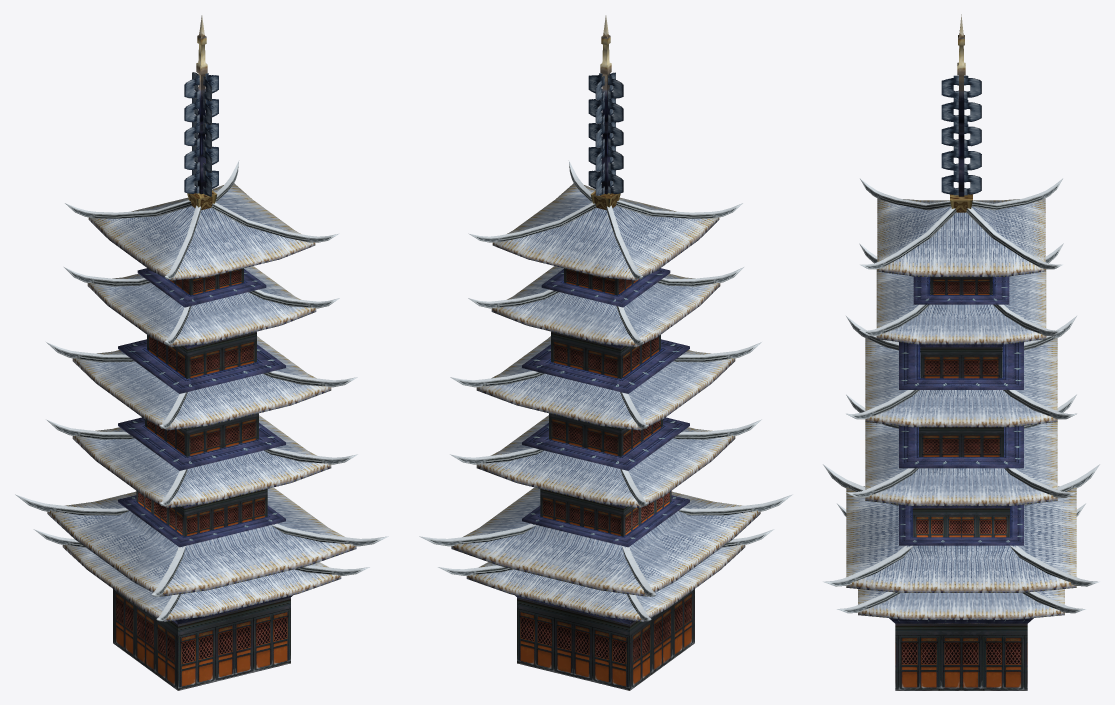
3 renders of one model, left to right at view 1: azimuth 30°, elevation 25°; view 2: azimuth 150°, elevation 25°; view 3: azimuth 270°, elevation 25°, orthographic.
Parts seen in each view (by area): view 1: jz_ta_01; view 2: jz_ta_01; view 3: jz_ta_01.
Part boxes in pixels (box(x1,y1,x2,y2)): jz_ta_01: box(15, 15, 388, 690); jz_ta_01: box(419, 15, 792, 690); jz_ta_01: box(823, 14, 1099, 690).
Size of the model in its own units: 1678 by 4301 by 1670.
